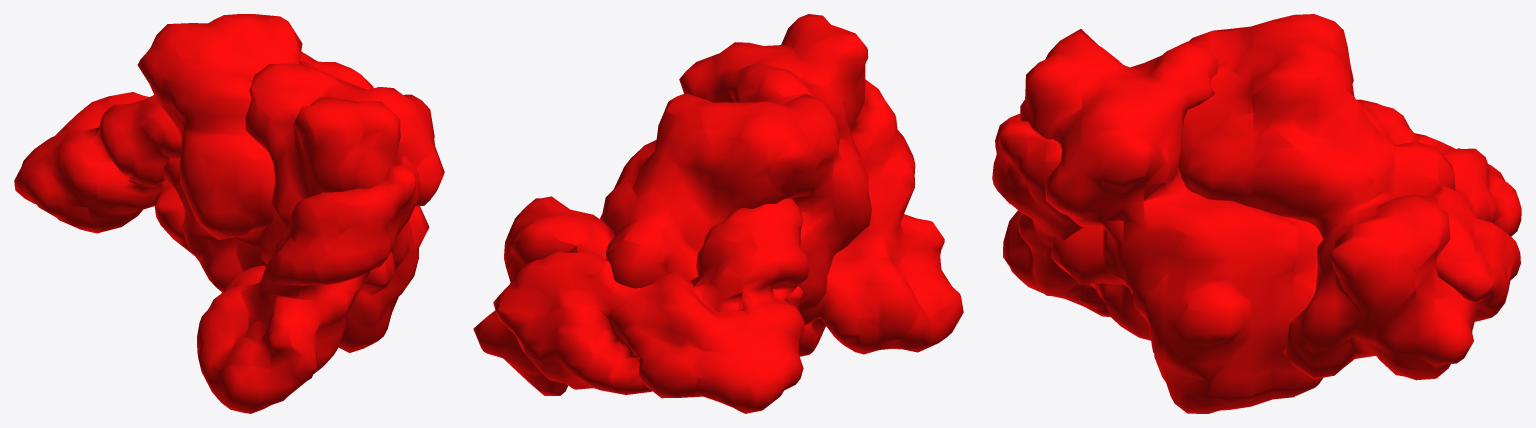
Rendered from tetramer1ASY.fbx.
3 renders of one model, left to right at view 1: azimuth 30°, elevation 25°; view 2: azimuth 150°, elevation 25°; view 3: azimuth 270°, elevation 25°, orthographic. The views are drawn at different scales.
Visible parts, largest first — view 1: CoarseMS_1asyBioSimp_SelectionR, CoarseMS_1asyBioSimp_SelectionS, CoarseMS_1asyBioSimp_SelectionA, CoarseMS_1asyBioSimp_SelectionB; view 2: CoarseMS_1asyBioSimp_SelectionA, CoarseMS_1asyBioSimp_SelectionB, CoarseMS_1asyBioSimp_SelectionS, CoarseMS_1asyBioSimp_SelectionR; view 3: CoarseMS_1asyBioSimp_SelectionR, CoarseMS_1asyBioSimp_SelectionA, CoarseMS_1asyBioSimp_SelectionB, CoarseMS_1asyBioSimp_SelectionS.
Part boxes in pixels (<box>): CoarseMS_1asyBioSimp_SelectionR: <box>153,63,444,352</box>; CoarseMS_1asyBioSimp_SelectionS: <box>197,155,419,413</box>; CoarseMS_1asyBioSimp_SelectionA: <box>137,14,373,291</box>; CoarseMS_1asyBioSimp_SelectionB: <box>14,92,181,233</box>; CoarseMS_1asyBioSimp_SelectionA: <box>473,93,872,395</box>; CoarseMS_1asyBioSimp_SelectionB: <box>493,198,809,413</box>; CoarseMS_1asyBioSimp_SelectionS: <box>799,80,963,356</box>; CoarseMS_1asyBioSimp_SelectionR: <box>679,14,868,309</box>; CoarseMS_1asyBioSimp_SelectionR: <box>1020,29,1323,413</box>; CoarseMS_1asyBioSimp_SelectionA: <box>1178,14,1476,380</box>; CoarseMS_1asyBioSimp_SelectionB: <box>1357,99,1521,321</box>; CoarseMS_1asyBioSimp_SelectionS: <box>992,113,1151,340</box>.
Size of the model in its own units: 85.96 by 84.12 by 121.
